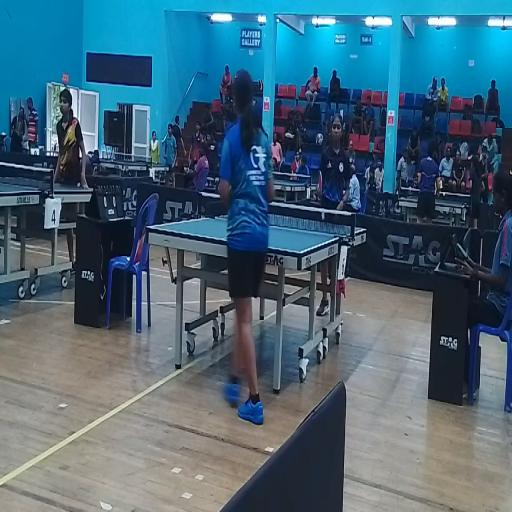ball: (322, 210, 326, 221)
